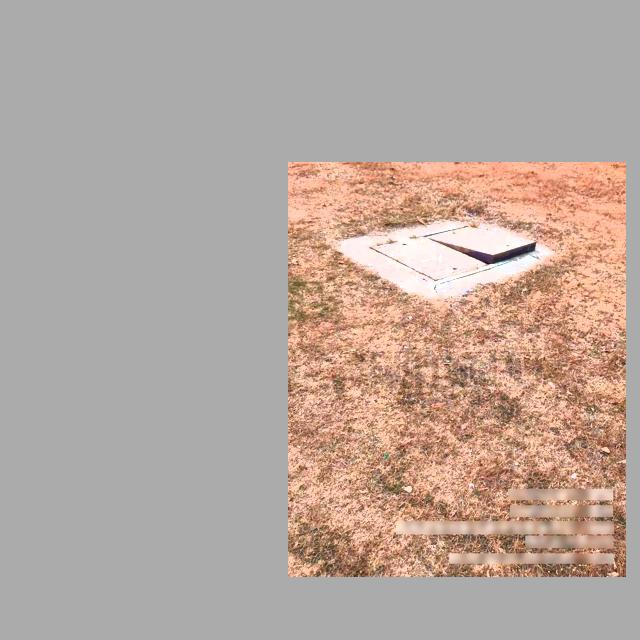uncovered: (369, 223, 539, 285)
